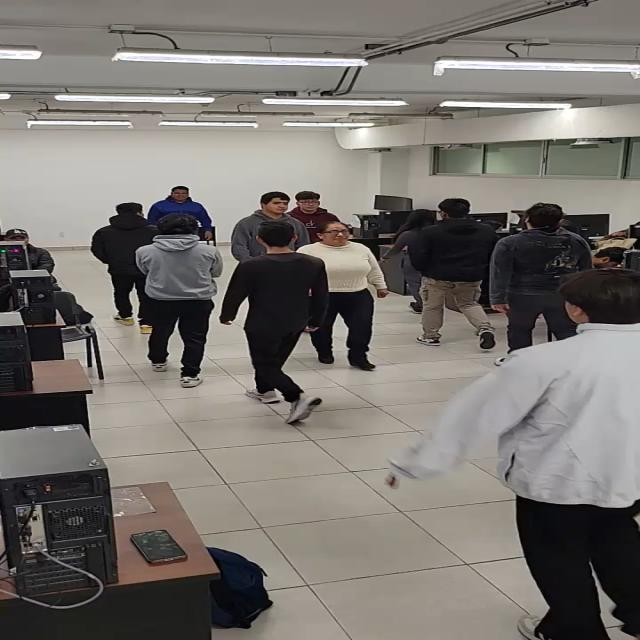Persona: (377, 267, 640, 640), (215, 219, 332, 424), (491, 203, 595, 367), (132, 212, 227, 388), (296, 220, 392, 370), (404, 197, 499, 348), (90, 202, 172, 336), (378, 208, 443, 315), (229, 191, 312, 265), (146, 185, 214, 242), (286, 190, 340, 240)
